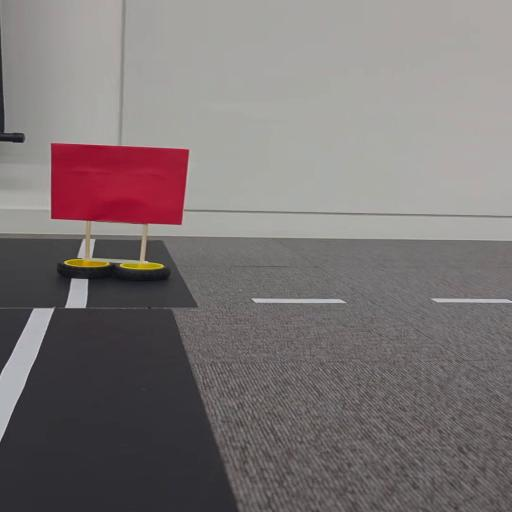Sign_A: (46, 140, 194, 280)
